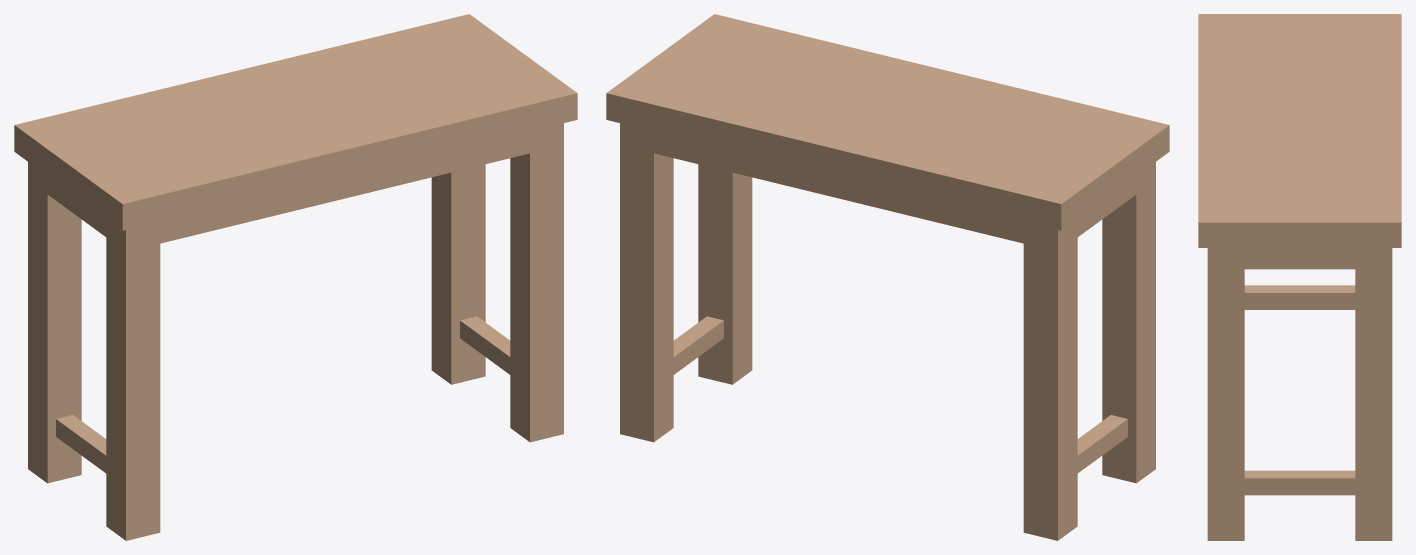
File: sideTable.glb
3 renders of one model, left to right at view 1: azimuth 30°, elevation 25°; view 2: azimuth 150°, elevation 25°; view 3: azimuth 270°, elevation 25°, orthographic. The views are drawn at different scales.
Parts seen in each view (by area): view 1: sideTable(Clone); view 2: sideTable(Clone); view 3: sideTable(Clone).
Part boxes in pixels (x1,y1,x2,y2): sideTable(Clone): (14,14,577,540); sideTable(Clone): (606,14,1169,540); sideTable(Clone): (1198,14,1401,540).
Bounding box in the file's own units: 0.5345 × 0.3844 × 0.22.
